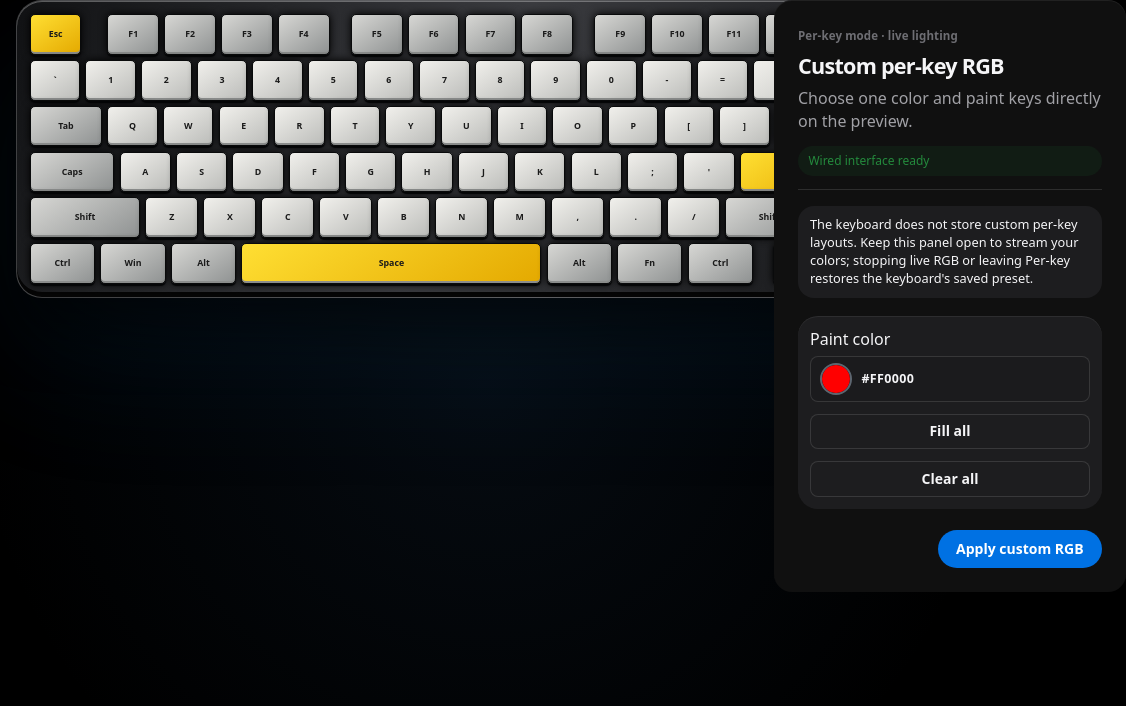
CustomLightingEditor › applies custom RGB over feature reports
Step 1. Click the button "Apply custom RGB" → point(1020, 549), box [938,530,1102,568]
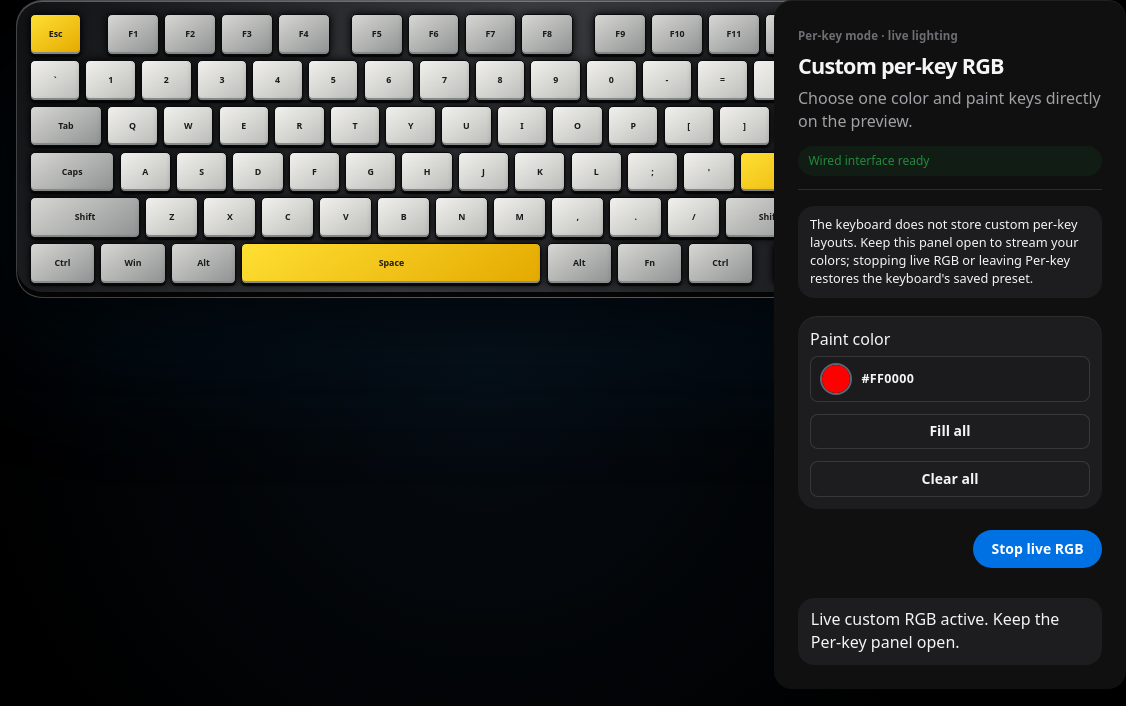
Expected: the button "Stop live RGB" is shown, [973,530,1102,568]
